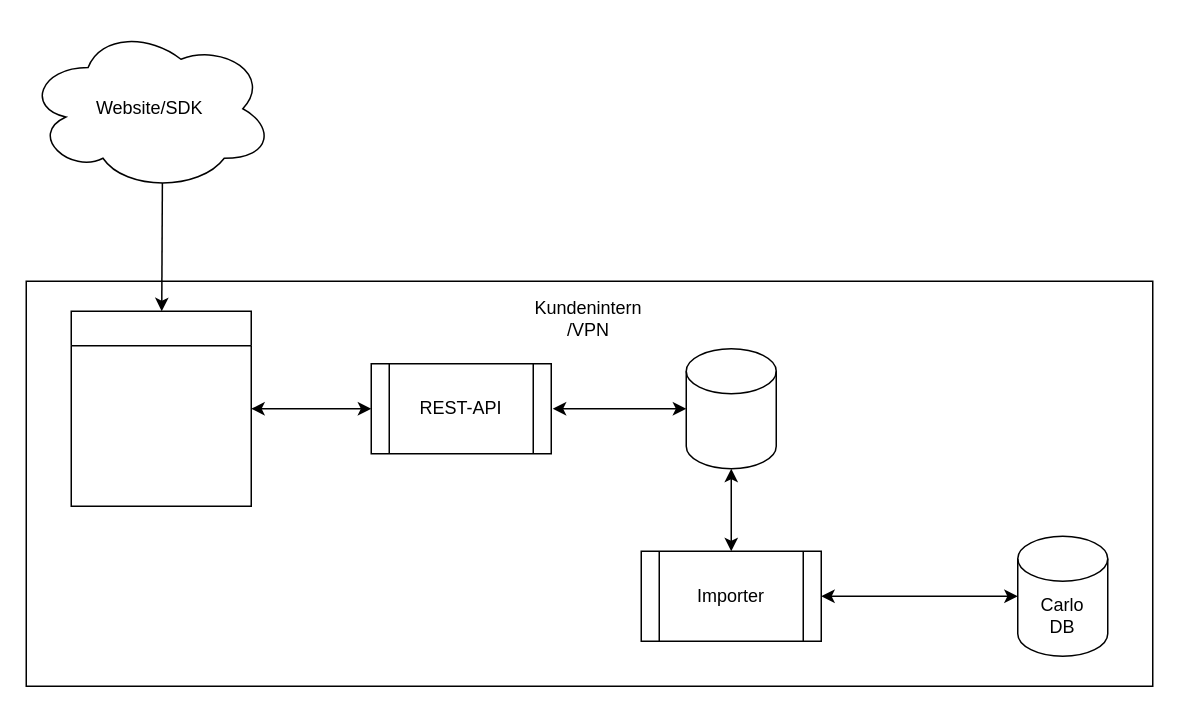
Image size: 1179x713. Some labels were removed from this diagram. The box of each missing label's shape, as (x1, y1, x2, y2) in pixels:
WebEx Client: (70, 310, 251, 506)
WebEx DB: (685, 347, 776, 469)
